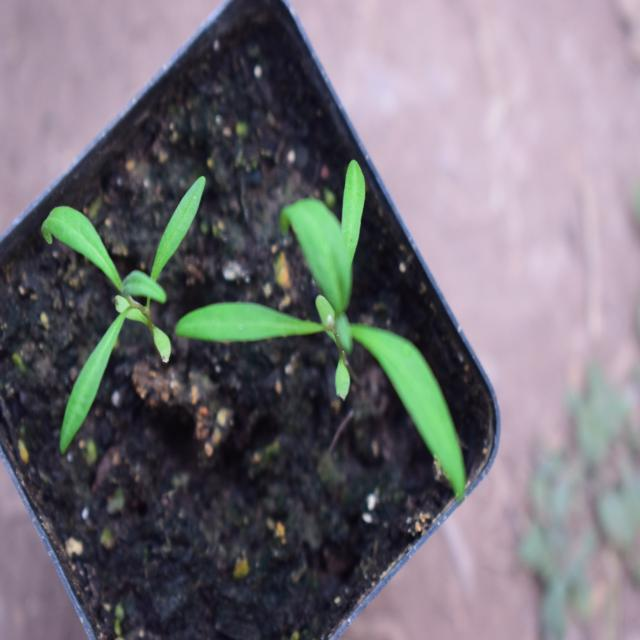white_smart_weed: (183, 148, 497, 514), (33, 165, 211, 440)
